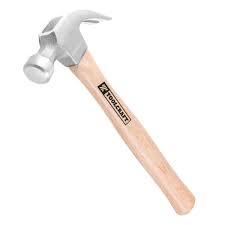martillu: (20, 7, 196, 218)
